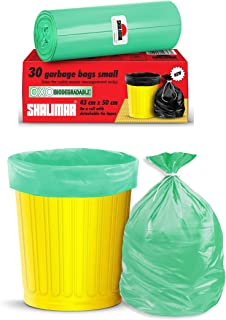plastic_bag: (114, 147, 226, 320)
